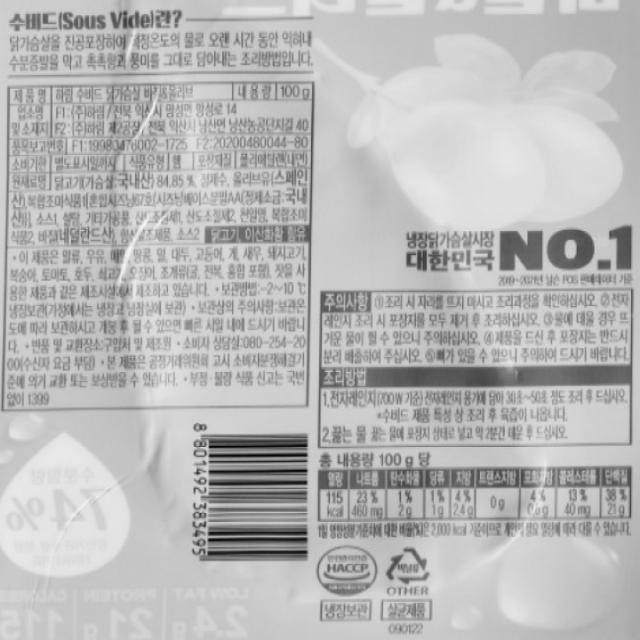Nutrition Label: (315, 451, 637, 543)
